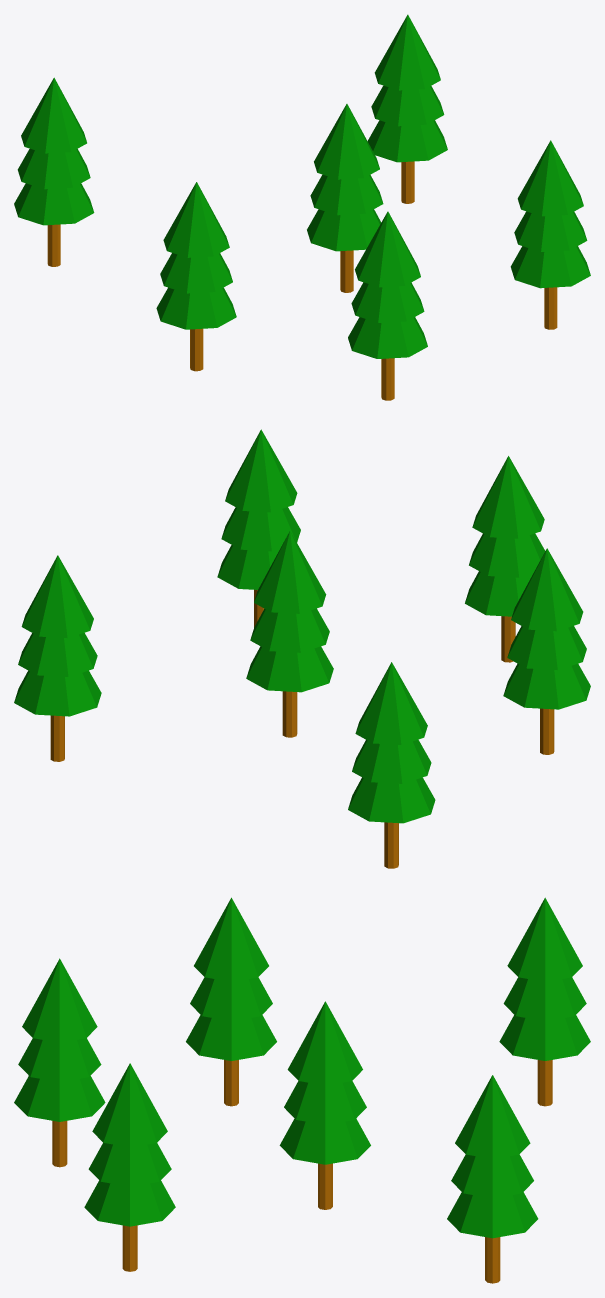
File: Tree 1 Group.fbx
The picture shows the model from 3 angles, top to bottom: view 1: azimuth 30°, elevation 25°; view 2: azimuth 150°, elevation 25°; view 3: azimuth 270°, elevation 25°; orthographic projection. The views are drawn at different scales.
Parts seen in each view (by area): view 1: Tree 1 Group; view 2: Tree 1 Group; view 3: Tree 1 Group.
Boxes of the visible parts, left/top/right/bottom form: Tree 1 Group: left=14, top=14, right=590, bottom=400; Tree 1 Group: left=14, top=429, right=590, bottom=868; Tree 1 Group: left=14, top=897, right=590, bottom=1283.
Size of the model in its own units: 1350 by 600 by 1524.
